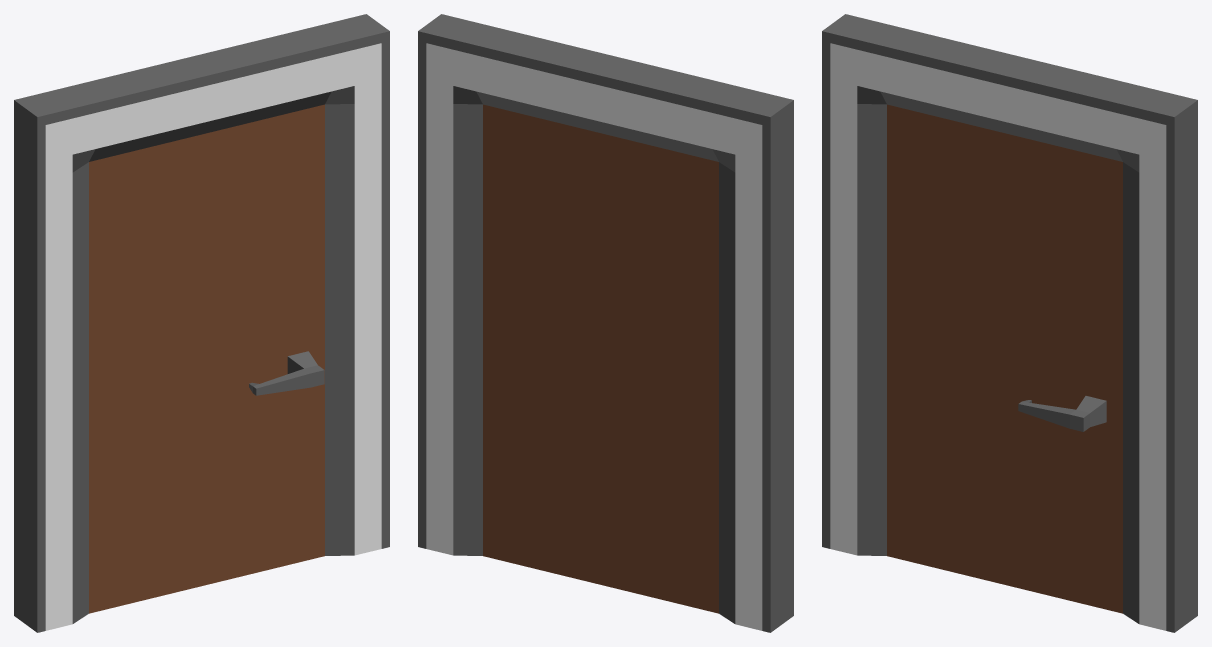
File: Red Door.fbx
The picture shows the model from 3 angles, left to right: view 1: azimuth 30°, elevation 25°; view 2: azimuth 150°, elevation 25°; view 3: azimuth 330°, elevation 25°; orthographic projection.
Parts seen in each view (by area): view 1: Cube; view 2: Cube; view 3: Cube.
Boxes of the visible parts, <box> form: Cube: <box>14,14,389,632</box>; Cube: <box>418,14,793,632</box>; Cube: <box>822,14,1197,632</box>.
Bounding box in the file's own units: 324 × 453 × 57.7.
